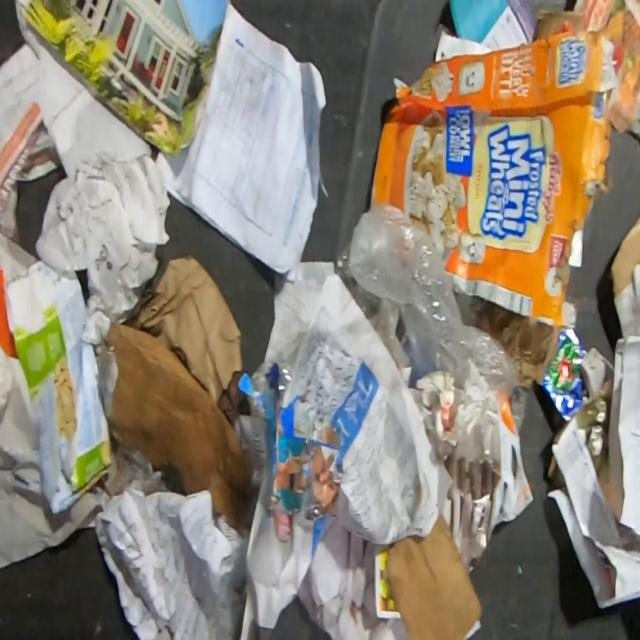cardboard: (370, 20, 620, 326), (107, 321, 254, 528), (236, 360, 342, 521), (384, 509, 480, 640), (608, 213, 640, 300)
metal: (542, 327, 588, 422)
rigid_plastic: (337, 244, 400, 353), (250, 333, 306, 404)
soft_plastic: (346, 203, 527, 436)
